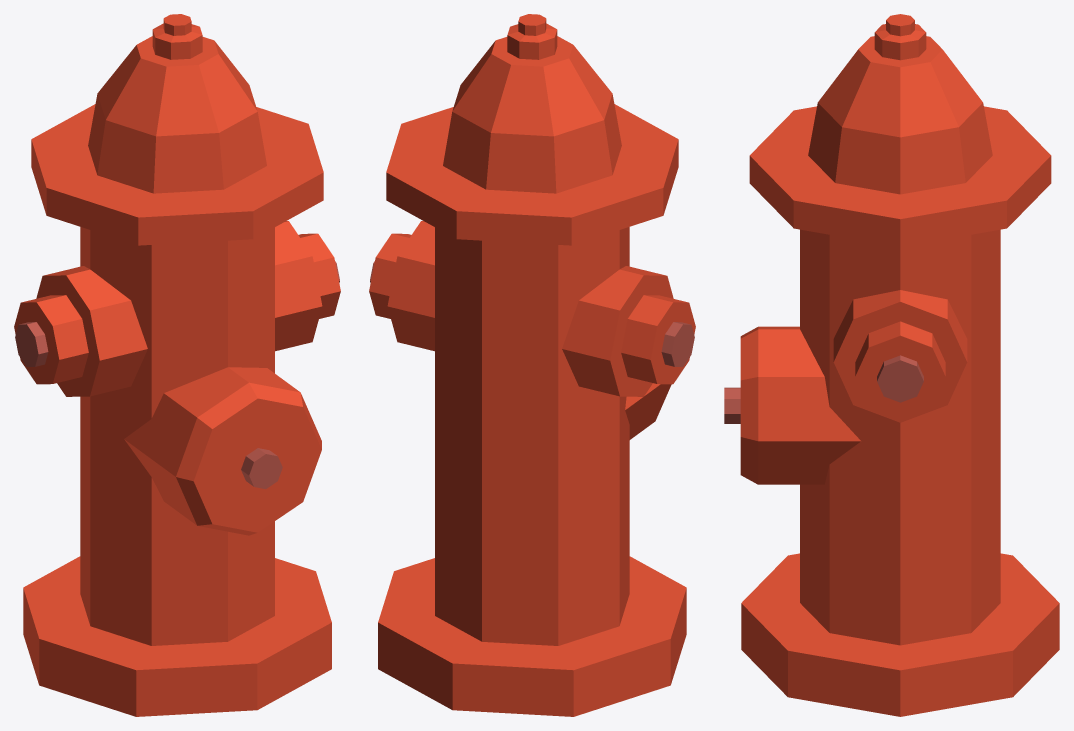
Rendered from FireHydrant.fbx.
3 views of the same model, side by side, from view 1: azimuth 30°, elevation 25°; view 2: azimuth 150°, elevation 25°; view 3: azimuth 270°, elevation 25° (orthographic).
Parts seen in each view (by area): view 1: FireHydrant.001; view 2: FireHydrant.001; view 3: FireHydrant.001.
Part boxes in pixels (x1,y1,x2,y2): FireHydrant.001: (14,14,340,716); FireHydrant.001: (369,14,695,716); FireHydrant.001: (724,14,1059,716).
Bounding box in the file's own units: 16.17 × 32.37 × 15.63.
